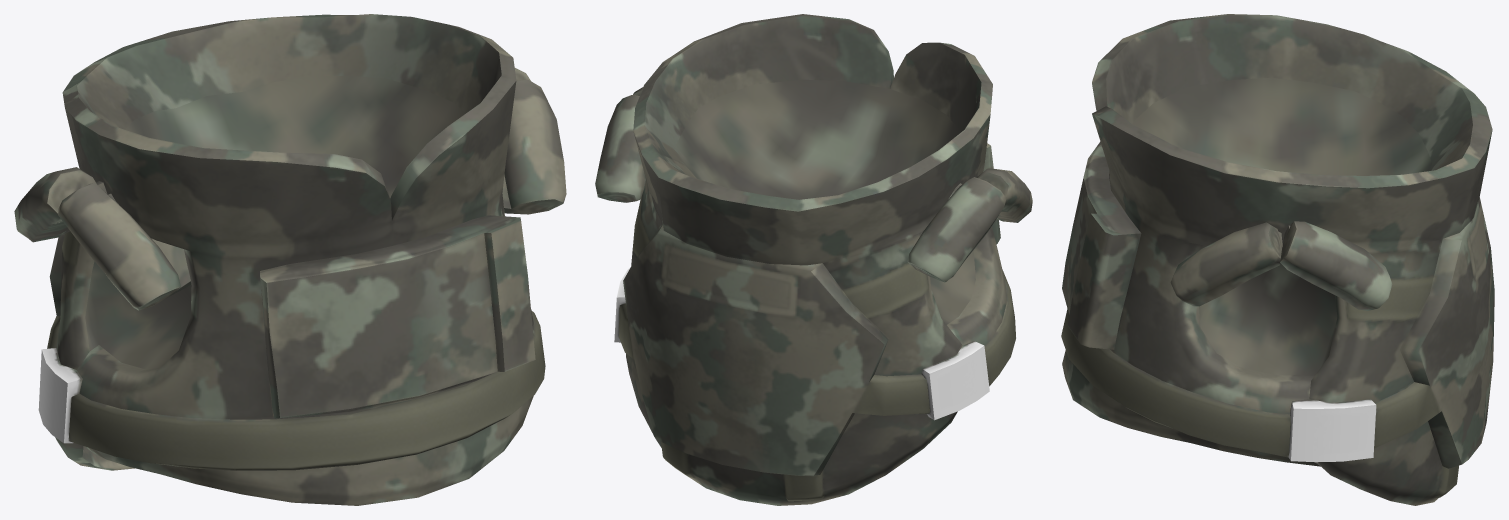
The model's file is IG_Armor_Lv4-3.fbx.
3 views of the same model, side by side, from view 1: azimuth 30°, elevation 25°; view 2: azimuth 150°, elevation 25°; view 3: azimuth 270°, elevation 25° (orthographic). The views are drawn at different scales.
Parts seen in each view (by area): view 1: Clothes_LV3_3; view 2: Clothes_LV3_3; view 3: Clothes_LV3_3.
Part boxes in pixels (<box>): Clothes_LV3_3: <box>14,14,566,505</box>; Clothes_LV3_3: <box>595,14,1032,505</box>; Clothes_LV3_3: <box>1061,14,1494,505</box>.
Bounding box in the file's own units: 0.7024 × 0.6237 × 0.6196.
